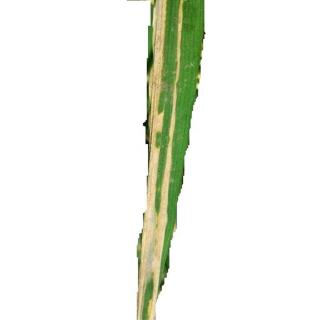Hawar-Daun: (133, 0, 180, 320)
